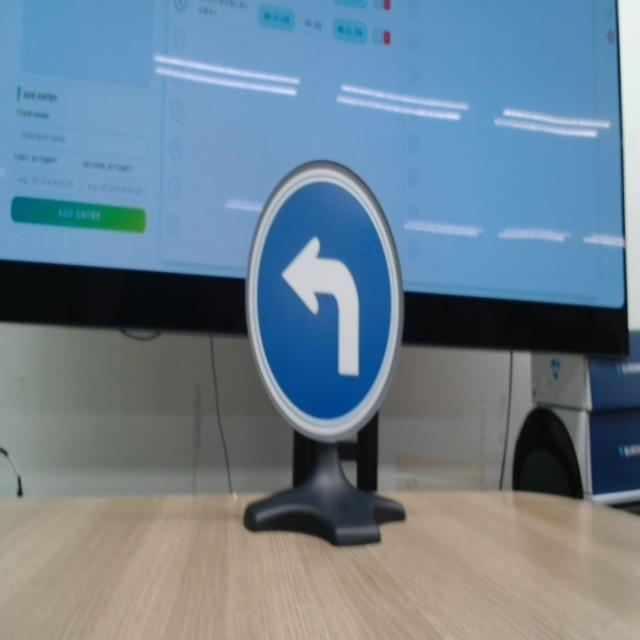left_direction: (238, 136, 419, 451)
